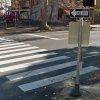Crosswalk: (2, 31, 62, 89)
